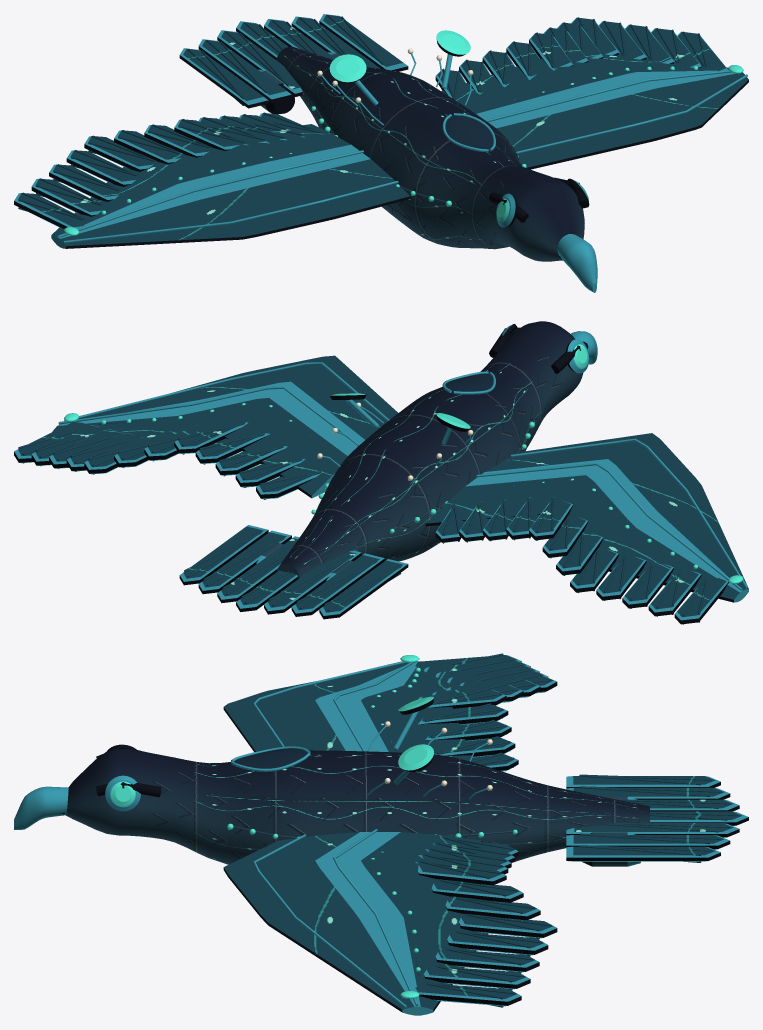
The picture shows the model from 3 angles, top to bottom: view 1: azimuth 30°, elevation 25°; view 2: azimuth 150°, elevation 25°; view 3: azimuth 270°, elevation 25°; orthographic projection. The views are drawn at different scales.
Parts seen in each view (by area): view 1: osprey_hull; view 2: osprey_hull; view 3: osprey_hull.
Boxes of the visible parts, box(x1,y1,x2,y2) form: osprey_hull: box(14, 14, 748, 292); osprey_hull: box(14, 321, 748, 624); osprey_hull: box(14, 653, 748, 1015).
Bounding box in the file's own units: 41 × 8.67 × 36.76.
1 material, 1 textured.
